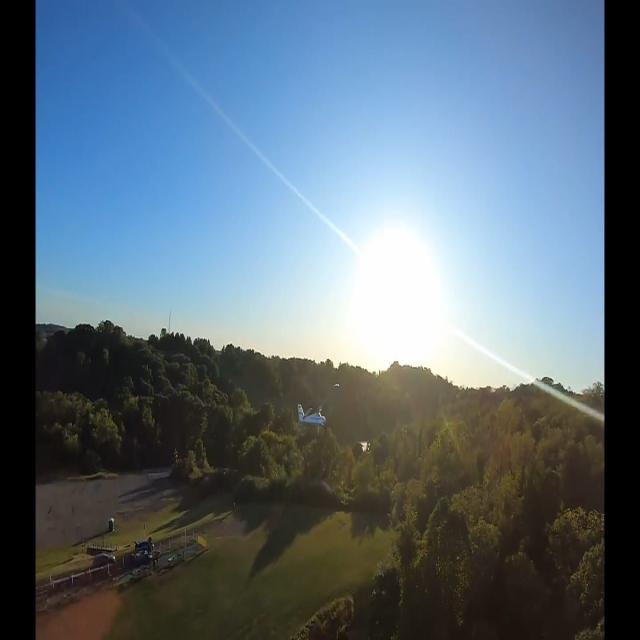iha: (298, 383, 339, 445)
